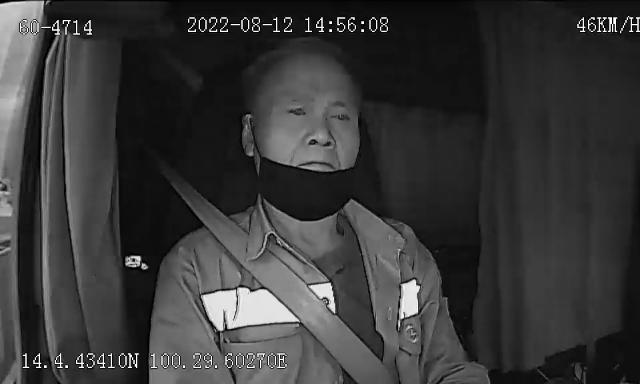SafeDriving: (323, 102, 357, 129), (280, 98, 314, 123)
Seatbelt: (165, 170, 399, 384)
